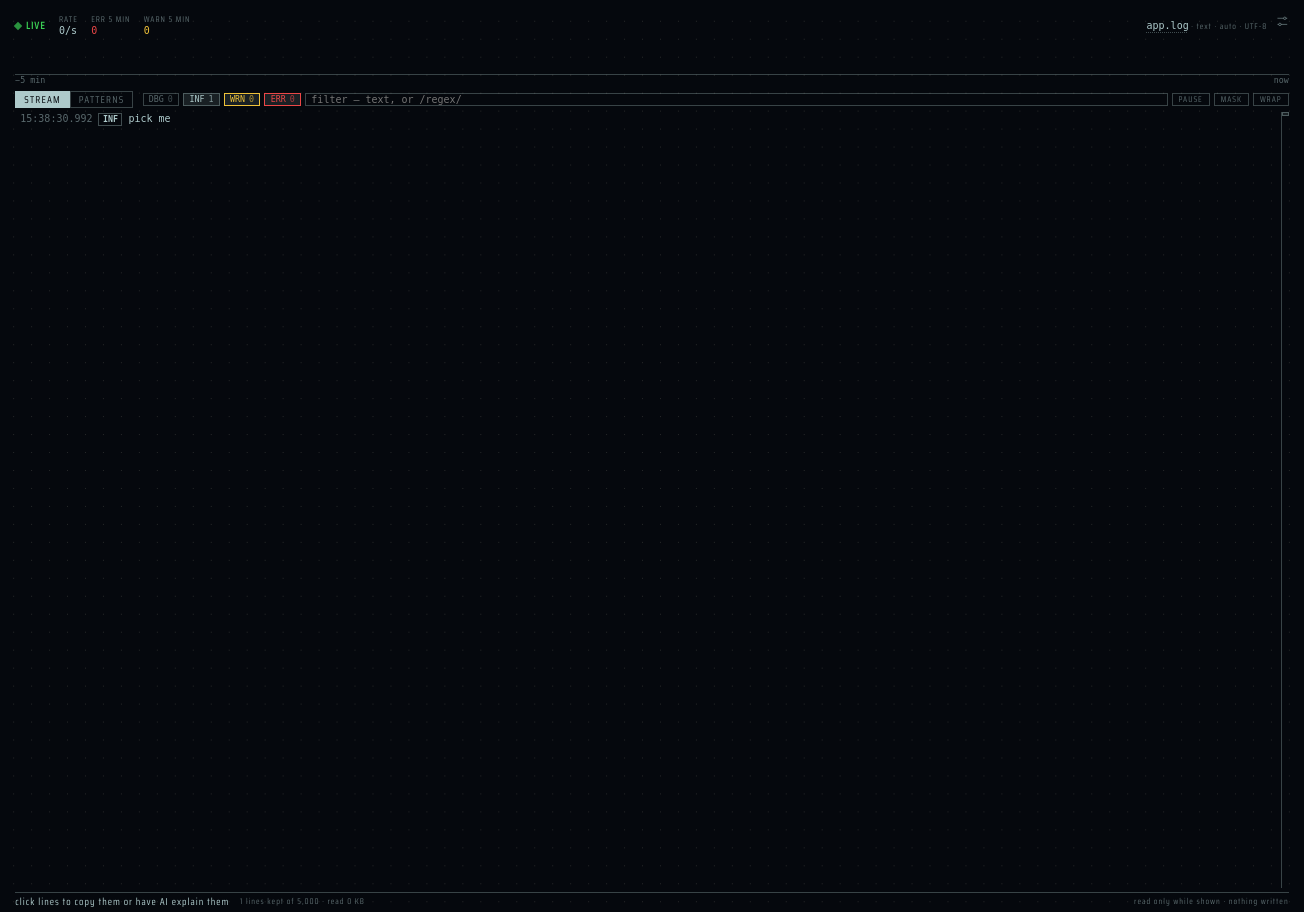
it: LogWatchWidget › offers COPY for a chosen line, and EXPLAIN only with an AI provider
Click the list item with test id "logwatch-row".
click(95, 120)  # box [20,113,170,126]
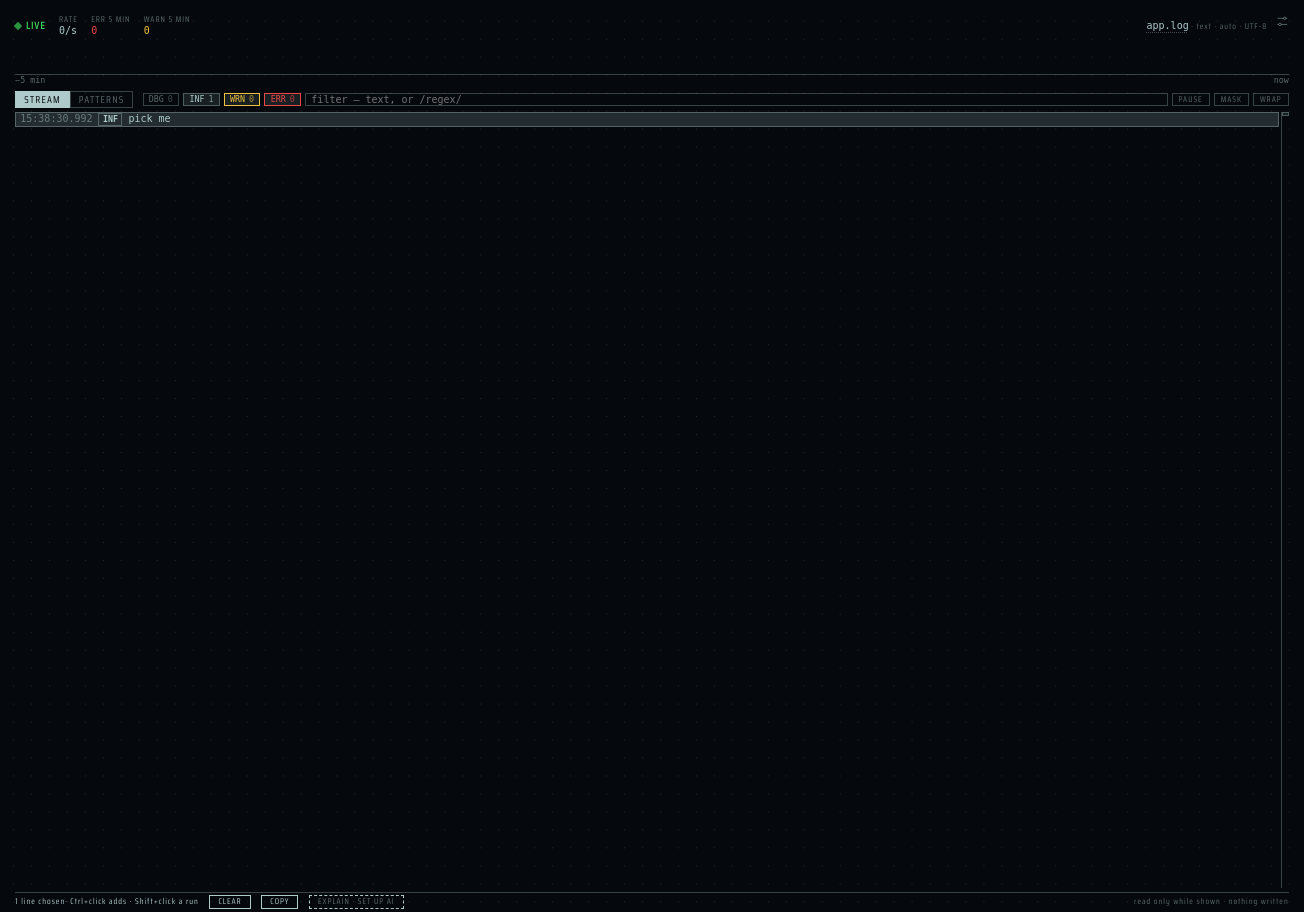
Check: the button with test id "logwatch-copy" is shown, box [261,895,298,909]
Check: the button with test id "logwatch-explain-setup" shows "SET UP AI", box [309,895,404,909]
